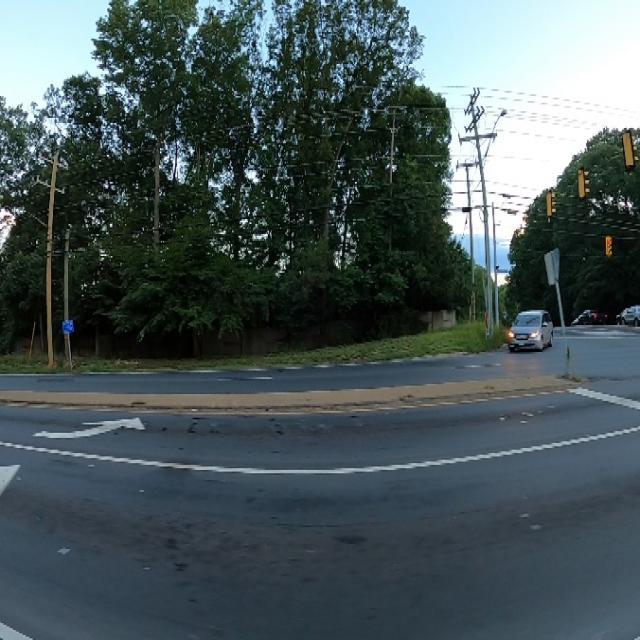car: (507, 297, 560, 361)
